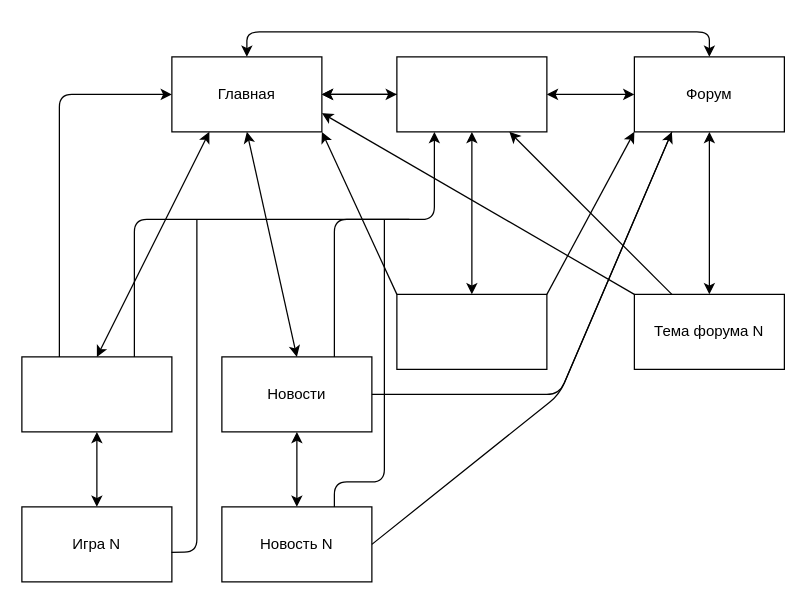
Some shapes in this 806 by 604 pixel diagram are drawn without their labels. Each missing label, with the centre of its shape:
"Вакансия N" goes at [471,331].
"Карьера в компании" goes at [471,94].
"Разработанные игры" goes at [96,394].
